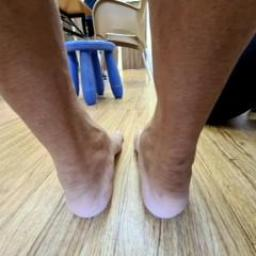Back View -Both Feet-: (1, 83, 246, 232)
